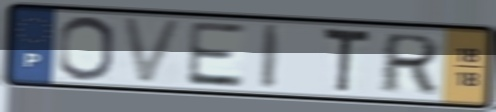E: (183, 19, 247, 89)
I: (258, 22, 286, 92)
O: (55, 14, 116, 83)
R: (376, 31, 444, 95)
T: (319, 25, 373, 96)
V: (119, 15, 187, 86)
